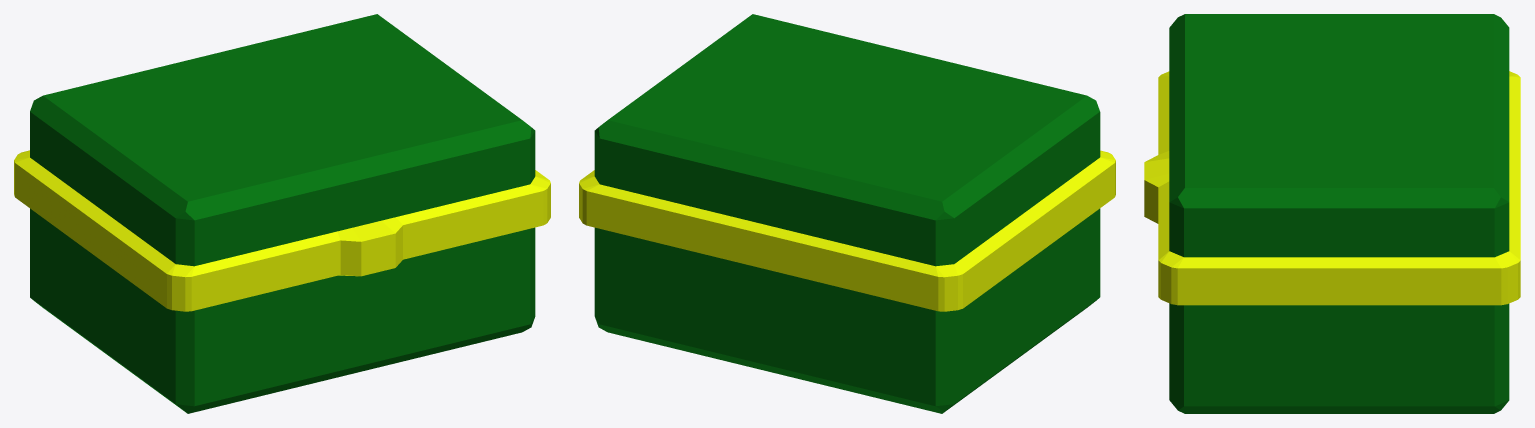
Rendered from greenchest.obj.
3 views of the same model, side by side, from view 1: azimuth 30°, elevation 25°; view 2: azimuth 150°, elevation 25°; view 3: azimuth 270°, elevation 25° (orthographic). The views are drawn at different scales.
Visible parts, largest first — view 1: Cube; view 2: Cube; view 3: Cube.
Boxes of the visible parts, <box> form: Cube: <box>14,14,550,413</box>; Cube: <box>579,14,1115,413</box>; Cube: <box>1144,14,1520,413</box>.
Bounding box in the file's own units: 6.11 × 3.24 × 4.88.
